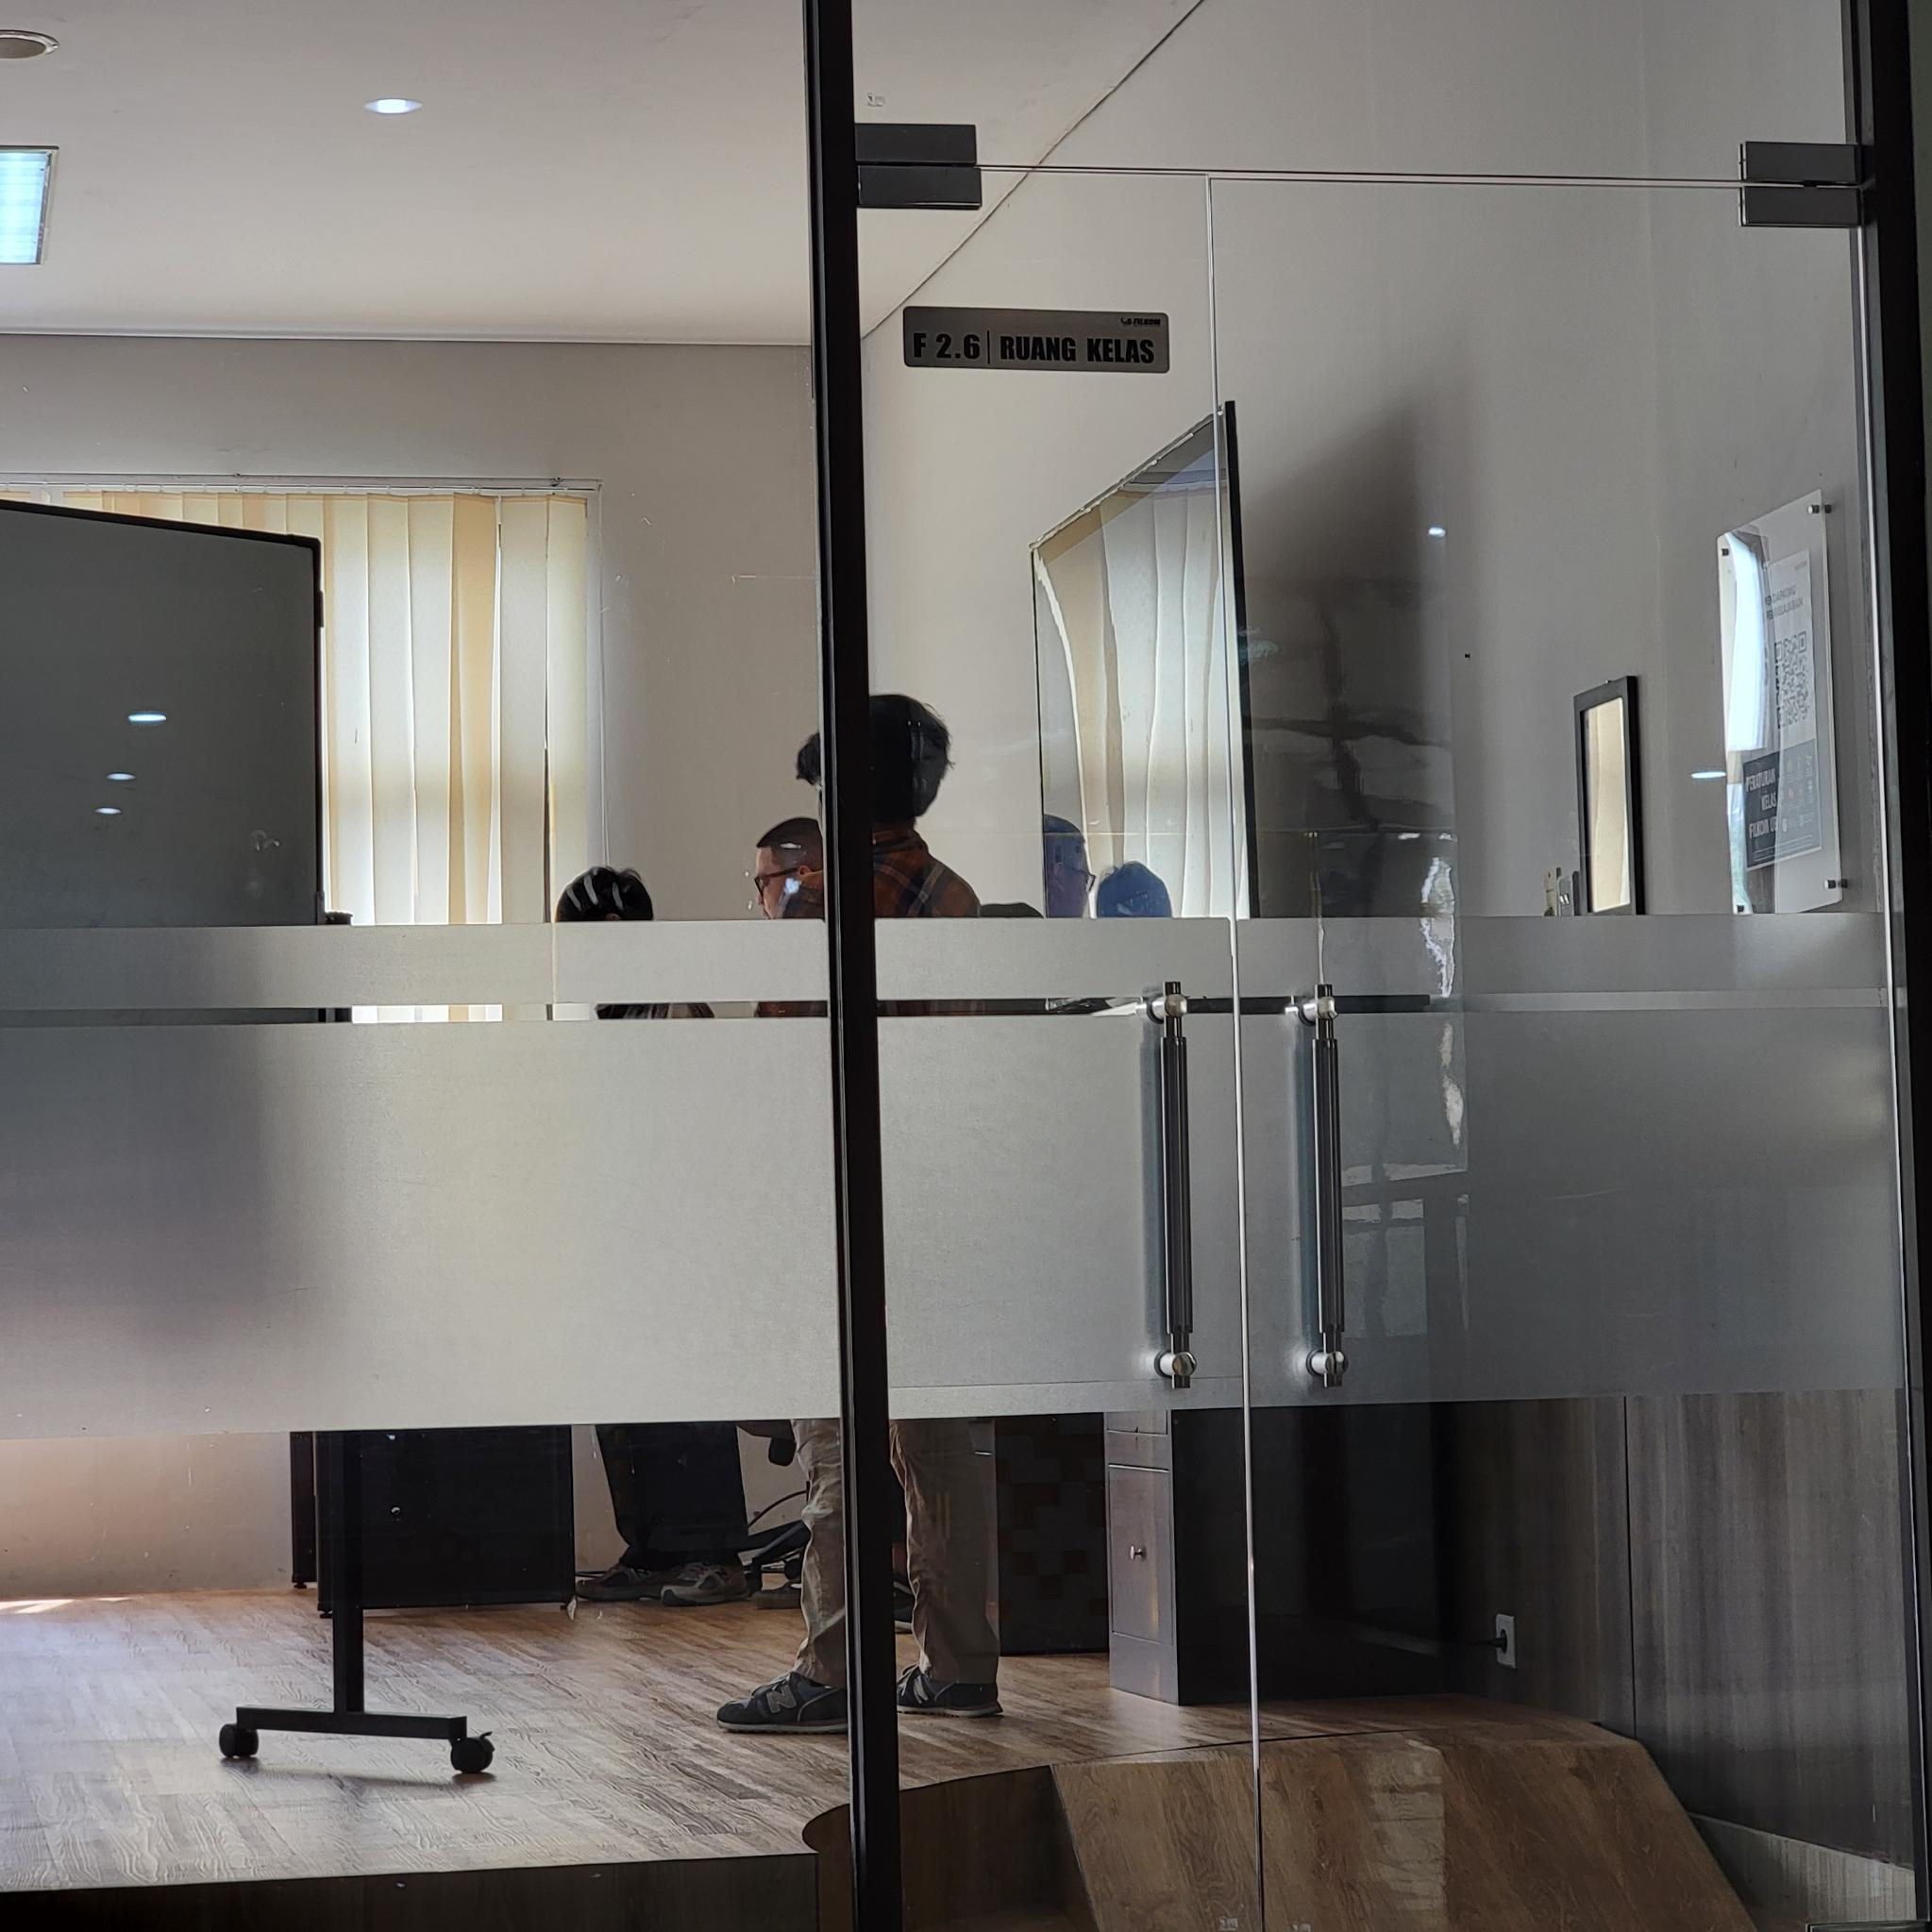plate: (904, 306, 1171, 373)
